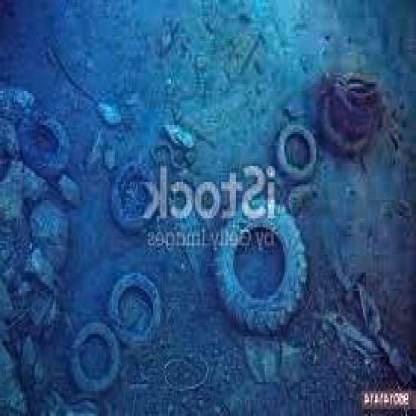tire: (202, 202, 314, 334), (319, 66, 398, 155), (101, 161, 164, 239), (103, 259, 159, 346), (258, 116, 324, 186), (17, 109, 77, 173), (68, 327, 124, 391)
